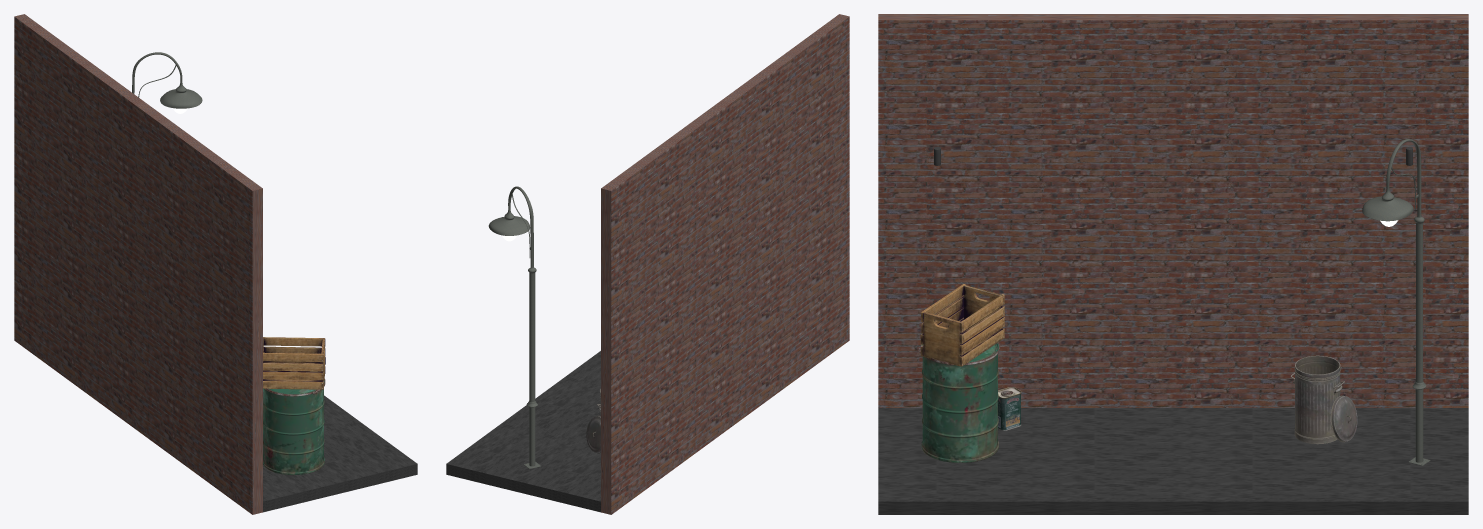
File: neon.brick.glb
3 views of the same model, side by side, from view 1: azimuth 30°, elevation 25°; view 2: azimuth 150°, elevation 25°; view 3: azimuth 270°, elevation 25° (orthographic). The views are drawn at different scales.
Visible parts, largest first — view 1: Cube.001, Cube, Steel-drum, Dirty Cedar White Wood Container, Street Lamp.001; view 2: Cube.001, Cube, Street Lamp.001, Metal Transh Can; view 3: Cube.001, Cube, Steel-drum, Dirty Cedar White Wood Container, Metal Transh Can, Street Lamp.001, Retopo_3DModel_mesh.
Part boxes in pixels (left/top/right/bottom): Cube.001: left=14, top=14, right=262, bottom=514; Cube: left=263, top=395, right=417, bottom=512; Steel-drum: left=263, top=379, right=325, bottom=475; Dirty Cedar White Wood Container: left=263, top=337, right=325, bottom=389; Street Lamp.001: left=132, top=52, right=202, bottom=113; Cube.001: left=601, top=14, right=849, bottom=514; Cube: left=446, top=351, right=600, bottom=512; Street Lamp.001: left=488, top=186, right=541, bottom=468; Metal Transh Can: left=586, top=389, right=600, bottom=453; Cube.001: left=878, top=14, right=1468, bottom=407; Cube: left=878, top=408, right=1468, bottom=514; Steel-drum: left=918, top=342, right=999, bottom=462; Dirty Cedar White Wood Container: left=920, top=284, right=1004, bottom=366; Metal Transh Can: left=1290, top=355, right=1357, bottom=444; Street Lamp.001: left=1362, top=139, right=1430, bottom=465; Retopo_3DModel_mesh: left=998, top=387, right=1021, bottom=430.
Size of the model in its own units: 3.2 by 6 by 8.
Materials: 11 (7 with a texture image).
